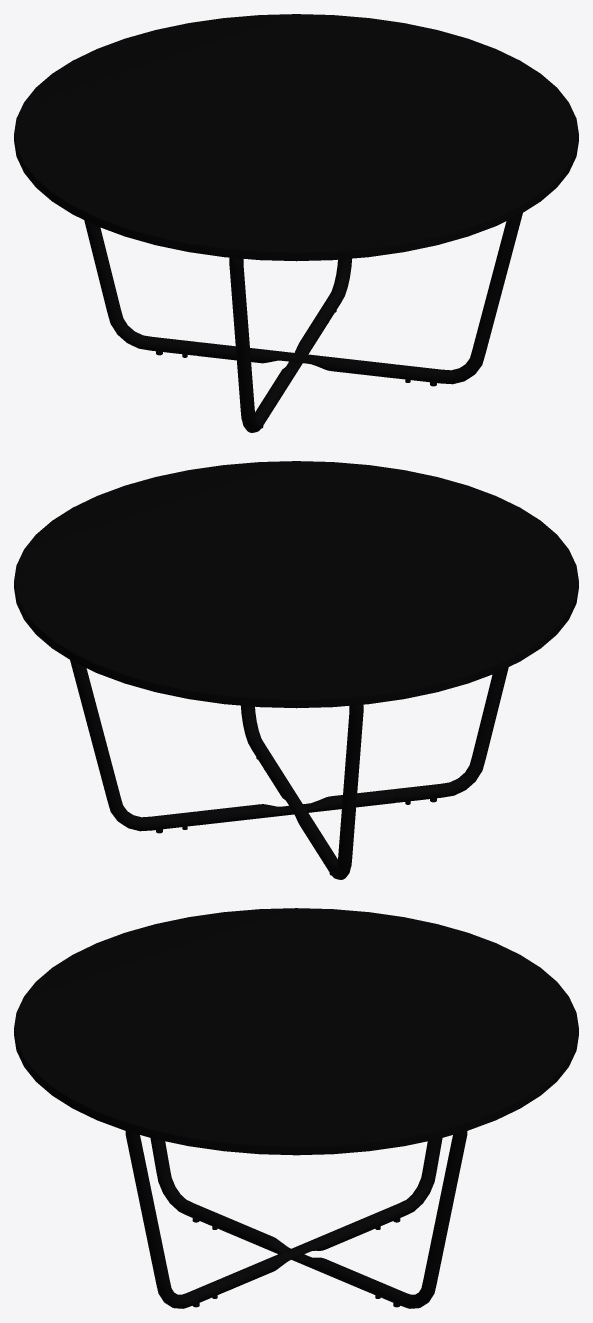
File: new_hagen_round_table.glb
The picture shows the model from 3 angles, top to bottom: view 1: azimuth 30°, elevation 25°; view 2: azimuth 150°, elevation 25°; view 3: azimuth 270°, elevation 25°; orthographic projection.
Parts seen in each view (by area): view 1: polySurface12_0; view 2: polySurface12_0; view 3: polySurface12_0.
Part boxes in pixels (x1,y1,x2,y2): polySurface12_0: (14, 14, 578, 432); polySurface12_0: (14, 461, 578, 879); polySurface12_0: (14, 908, 578, 1308).
Bounding box in the file's own units: 0.8 × 0.37 × 0.8.
Materials: 1 (1 with a texture image).
